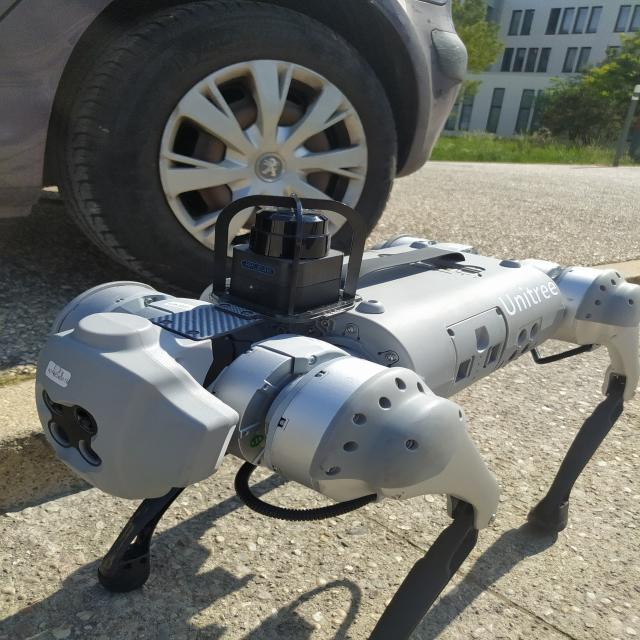unitree-go1-robot: (26, 174, 640, 640)
